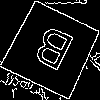B: (26, 24, 77, 81)
